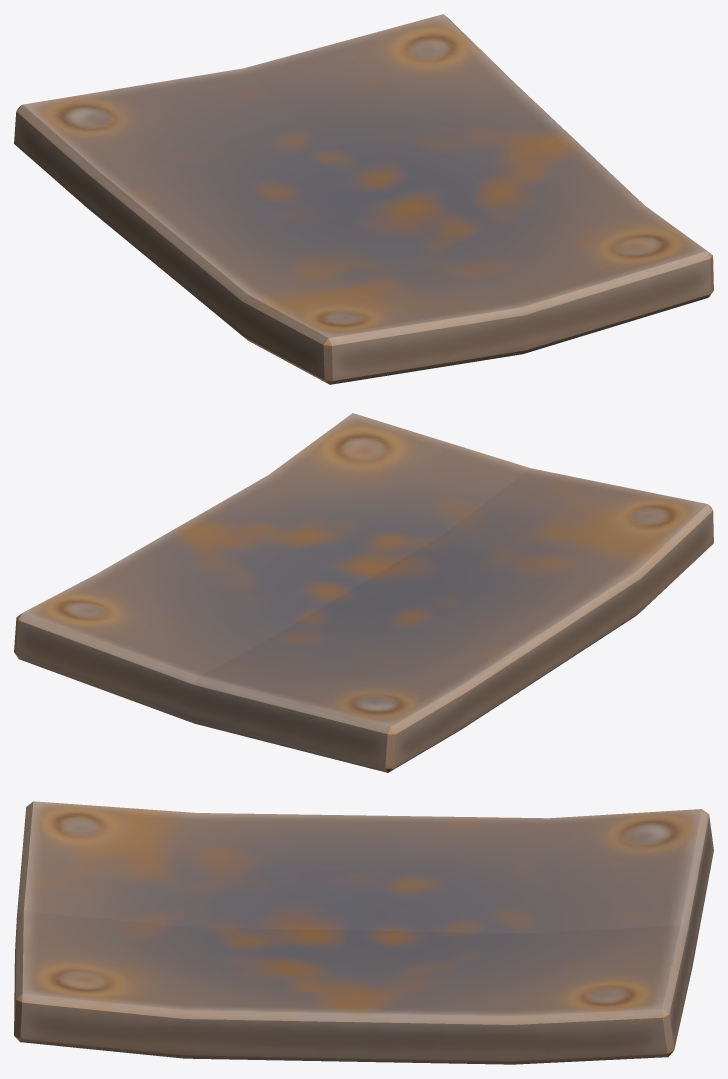
Rendered from Scrap_03.fbx.
3 renders of one model, top to bottom at view 1: azimuth 30°, elevation 25°; view 2: azimuth 150°, elevation 25°; view 3: azimuth 270°, elevation 25°, orthographic. The views are drawn at different scales.
Visible parts, largest first — view 1: Scrap_03; view 2: Scrap_03; view 3: Scrap_03.
Boxes of the visible parts, bbox=[...] form: Scrap_03: bbox=[14, 14, 713, 384]; Scrap_03: bbox=[14, 413, 713, 772]; Scrap_03: bbox=[14, 801, 713, 1064].
Size of the model in its own units: 16.51 by 2.73 by 22.24.
